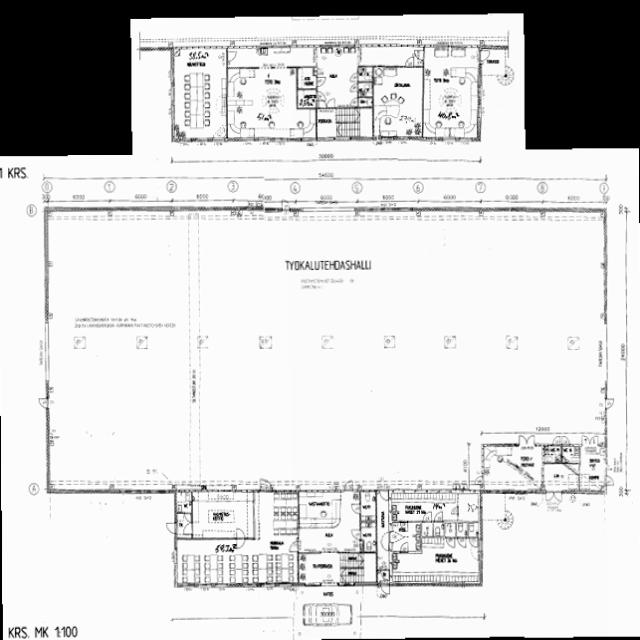door: (261, 478, 272, 494), (164, 523, 177, 534), (379, 531, 392, 542), (38, 398, 50, 409), (476, 50, 489, 60), (282, 198, 291, 212), (182, 523, 193, 534), (288, 541, 300, 551), (380, 491, 389, 503), (457, 536, 466, 548), (469, 536, 478, 548), (236, 538, 245, 550), (236, 528, 245, 540), (316, 91, 326, 101), (605, 476, 616, 485), (605, 399, 616, 408), (554, 491, 562, 503), (546, 491, 554, 503), (381, 584, 389, 596), (345, 482, 353, 494), (446, 536, 454, 548), (582, 435, 590, 447), (590, 435, 598, 447), (351, 530, 361, 539), (414, 51, 424, 60), (226, 52, 236, 61), (316, 77, 326, 86), (423, 511, 431, 522), (434, 511, 442, 522), (400, 543, 408, 554), (562, 436, 570, 447), (405, 56, 413, 67), (327, 98, 335, 109), (319, 98, 327, 109), (400, 520, 408, 530), (474, 476, 484, 484), (526, 436, 534, 446), (381, 569, 388, 580), (553, 436, 560, 447), (352, 504, 361, 512), (350, 98, 359, 106), (519, 436, 526, 446), (351, 84, 359, 91), (351, 74, 359, 81), (184, 512, 190, 521), (476, 61, 484, 64), (419, 60, 424, 64), (378, 584, 381, 590), (378, 570, 381, 574), (226, 61, 230, 64), (378, 491, 380, 496)
